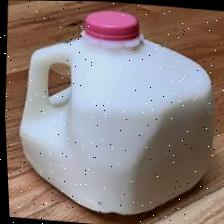plastic: (8, 4, 224, 224)
